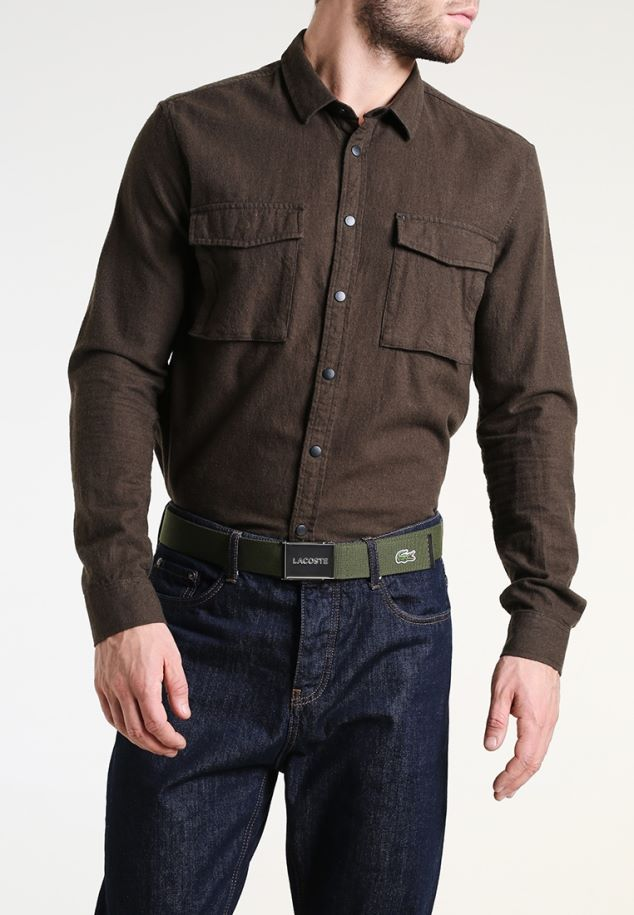C_jeans: (120, 500, 447, 910)
F_belt: (151, 483, 487, 588)
